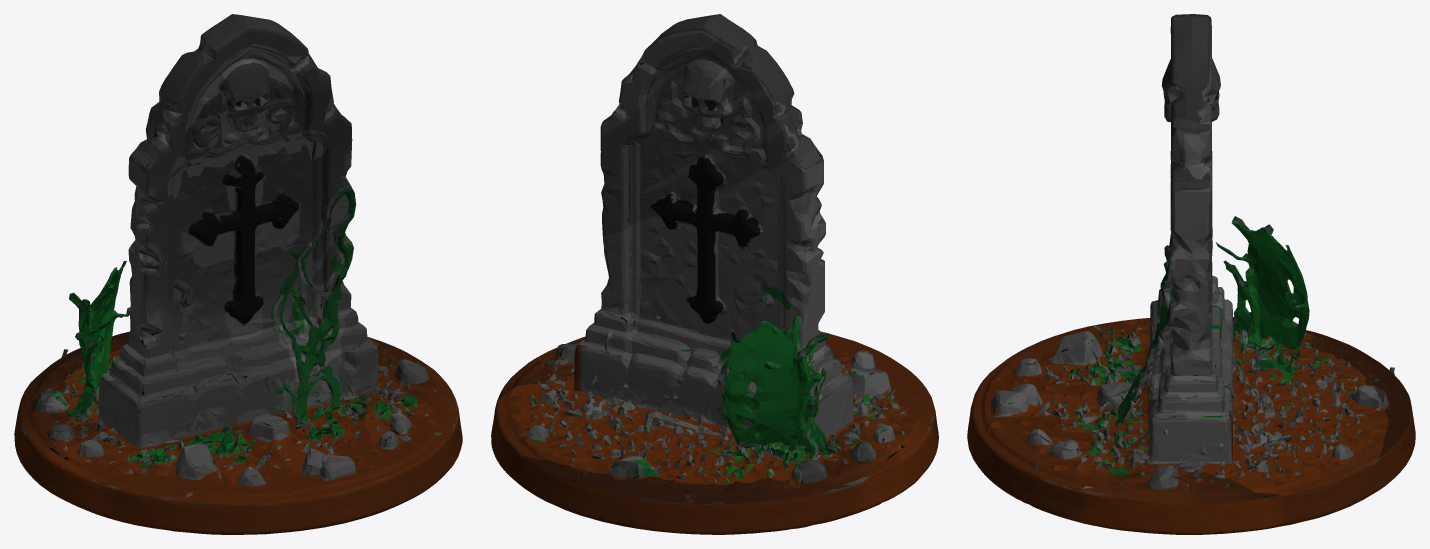
The model's file is lapide.glb.
3 renders of one model, left to right at view 1: azimuth 30°, elevation 25°; view 2: azimuth 150°, elevation 25°; view 3: azimuth 270°, elevation 25°, orthographic.
Visible parts, largest first — view 1: tmpn2ttrlfj.ply; view 2: tmpn2ttrlfj.ply; view 3: tmpn2ttrlfj.ply.
Boxes of the visible parts, box(x1,y1,x2,y2) form: tmpn2ttrlfj.ply: box(14, 14, 462, 534); tmpn2ttrlfj.ply: box(491, 14, 938, 534); tmpn2ttrlfj.ply: box(967, 14, 1415, 534).
Size of the model in its own units: 1.88 by 1.97 by 1.86.
Materials: 1 (1 with a texture image).
